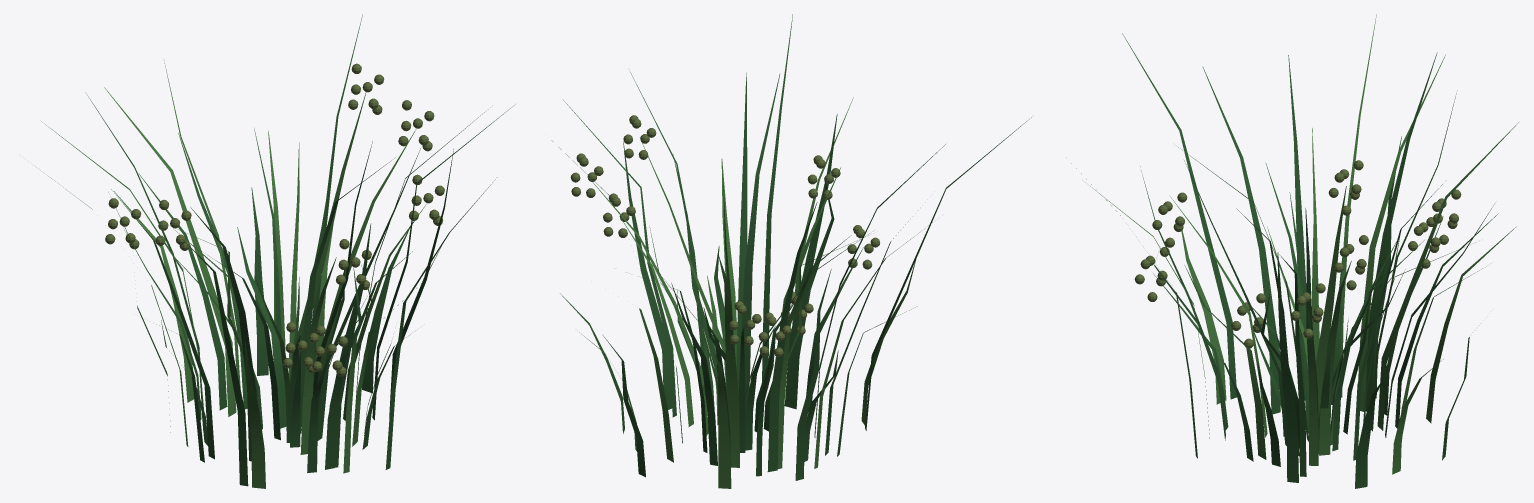
Rendered from detail_sedge.glb.
3 views of the same model, side by side, from view 1: azimuth 30°, elevation 25°; view 2: azimuth 150°, elevation 25°; view 3: azimuth 270°, elevation 25° (orthographic). The views are drawn at different scales.
Parts seen in each view (by area): view 1: CurvedGrassBlades; view 2: CurvedGrassBlades; view 3: CurvedGrassBlades.
Part boxes in pixels (x1,y1,x2,y2): CurvedGrassBlades: (35,14,515,488); CurvedGrassBlades: (551,14,1031,488); CurvedGrassBlades: (1071,14,1518,488).
Size of the model in its own units: 1.79 by 1.27 by 1.62.
